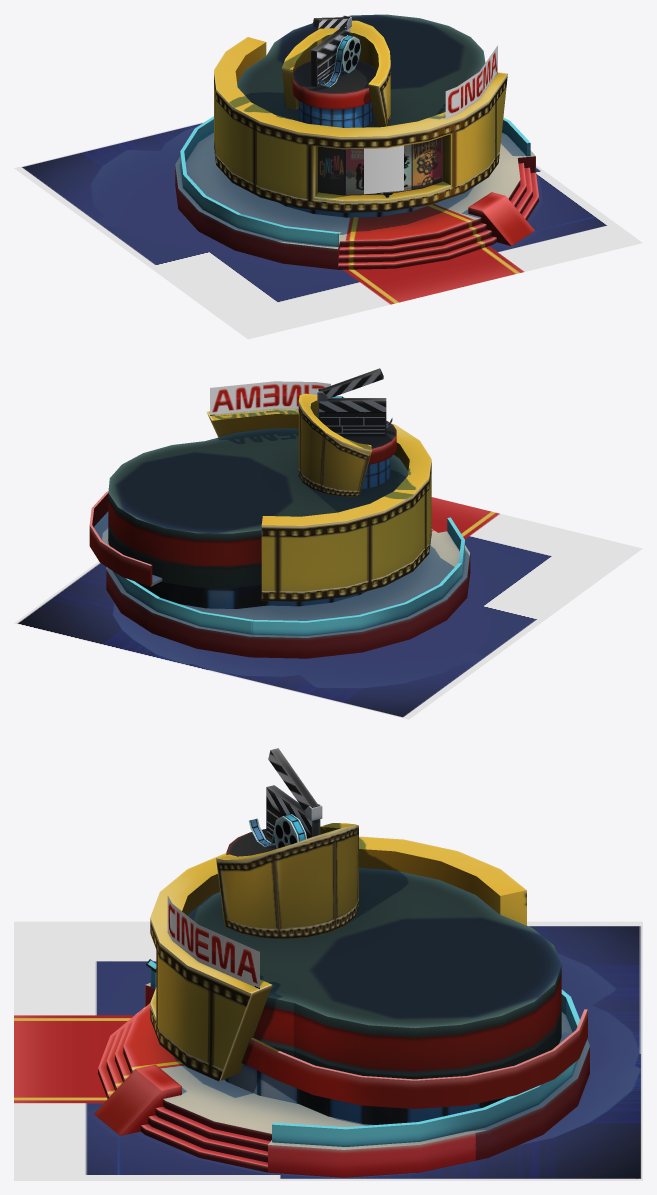
The model's file is Cinema_Model.fbx.
The picture shows the model from 3 angles, top to bottom: view 1: azimuth 30°, elevation 25°; view 2: azimuth 150°, elevation 25°; view 3: azimuth 270°, elevation 25°; orthographic projection. The views are drawn at different scales.
Parts seen in each view (by area): view 1: polySurface2, cinema_fake_shadow, Posters, SpotlightsGlow, cinema_title, board_main, flim_main; view 2: polySurface2, cinema_fake_shadow, cinema_title, board_main, board_bar; view 3: polySurface2, cinema_fake_shadow, cinema_title, board_main, board_bar, flim_main.
Boxes of the visible parts, x1,y1,x2,y2 form: polySurface2: (175,14,538,269); cinema_fake_shadow: (14,121,642,339); Posters: (318,137,442,195); SpotlightsGlow: (364,145,403,194); cinema_title: (445,45,497,118); board_main: (311,28,350,86); flim_main: (335,35,360,73); polySurface2: (89,393,470,658); cinema_fake_shadow: (14,497,642,719); cinema_title: (210,381,330,415); board_main: (318,398,386,436); board_bar: (320,368,383,398); polySurface2: (94,823,589,1177); cinema_fake_shadow: (14,921,642,1180); cinema_title: (167,896,259,988); board_main: (266,785,320,838); board_bar: (268,748,318,811); flim_main: (273,814,306,848).
Bounding box in the file's own units: 29.95 × 15.21 × 30.73.
